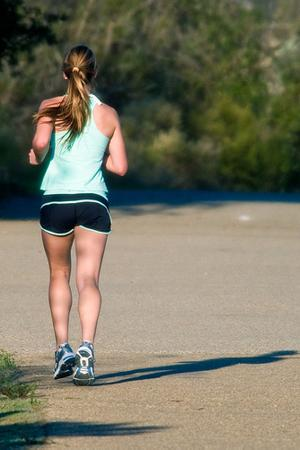person: (29, 44, 128, 390)
